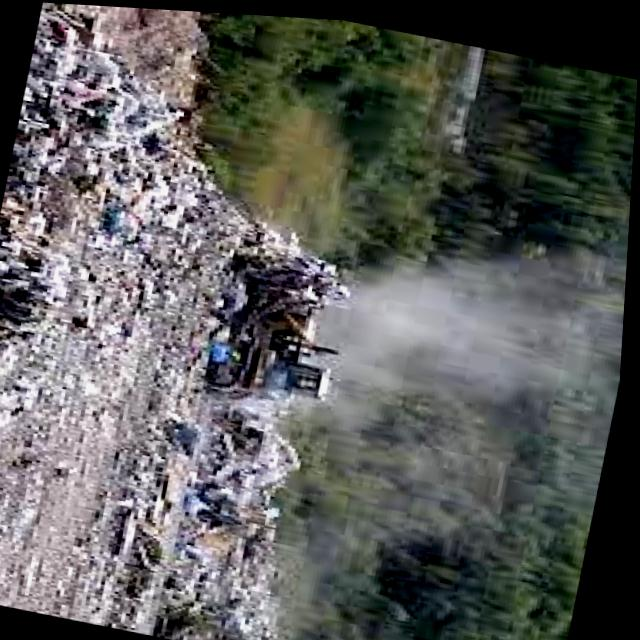no_helmet: (309, 212, 631, 424)
